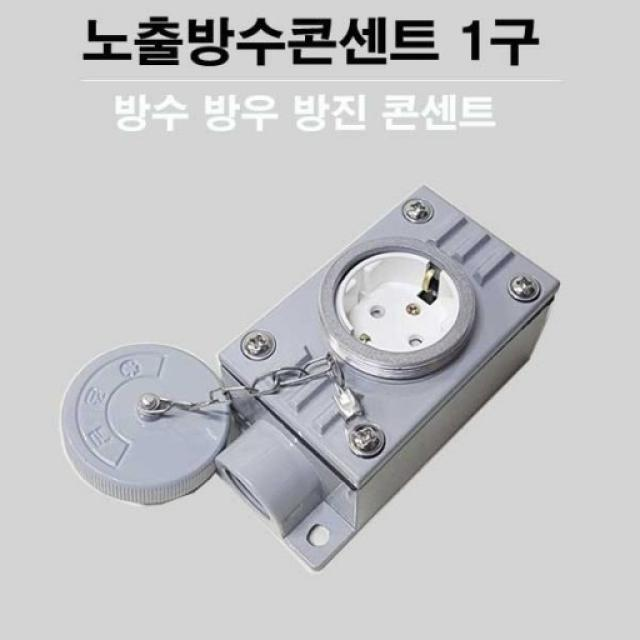typeb: (242, 182, 598, 430)
